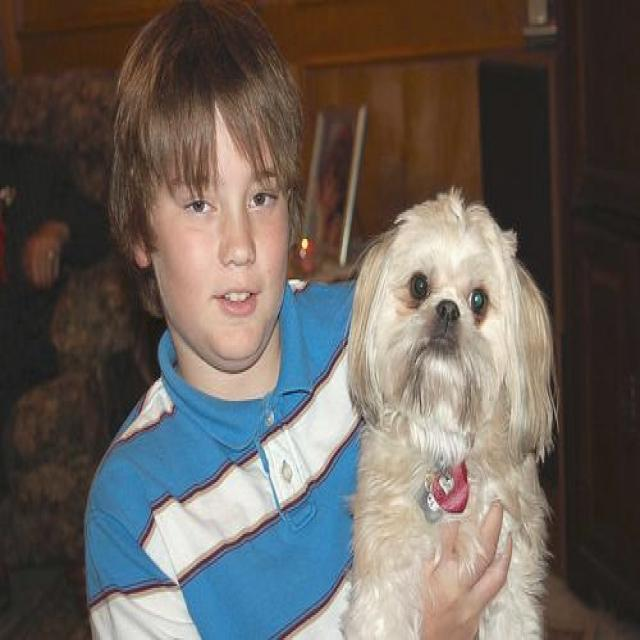shih_tzu: (338, 181, 554, 638)
